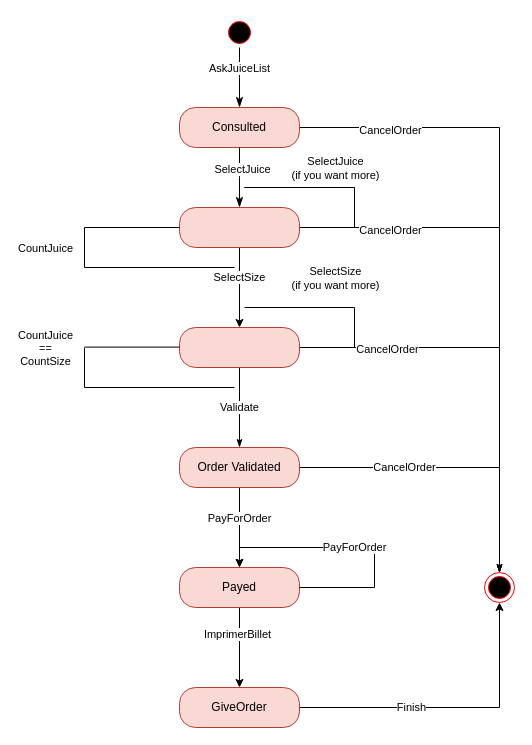
This 532x745 diagram has some shape labels left out. Each missing label, with the centre of its shape:
"Juice selected" goes at point (239, 227).
"Size selected" goes at point (239, 347).
